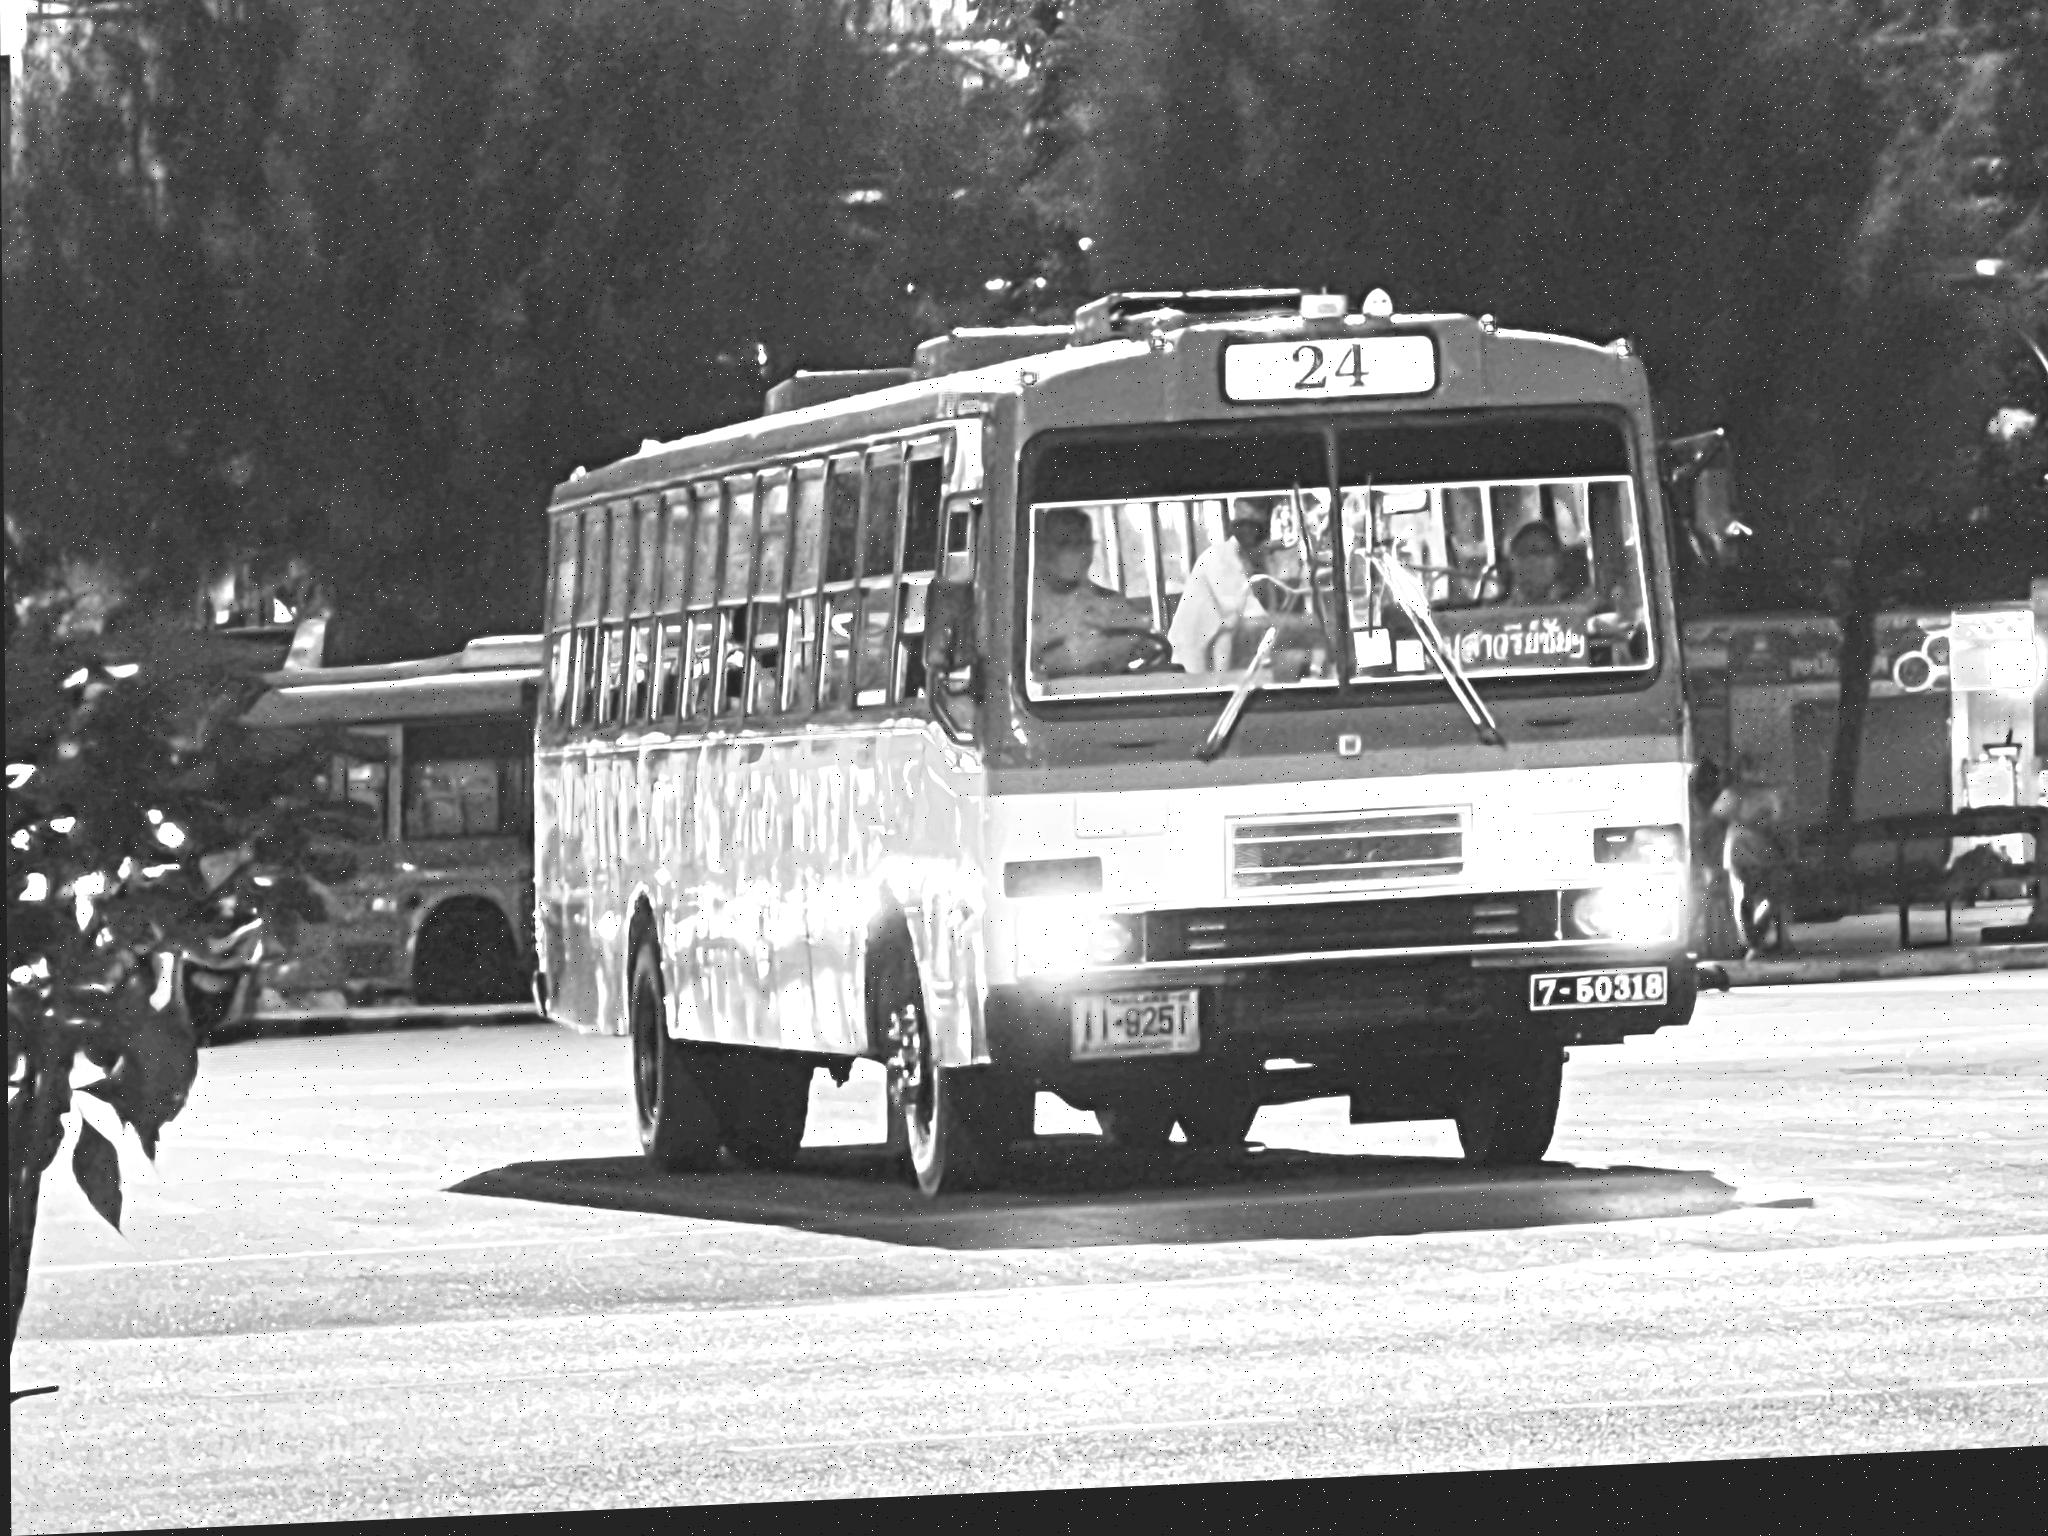BMTA-bus: (522, 300, 1719, 1207)
Bus Line Number: (1284, 340, 1377, 413)
Bus Side Number: (1524, 981, 1669, 1026)
Destination Sign: (1417, 620, 1592, 691)
